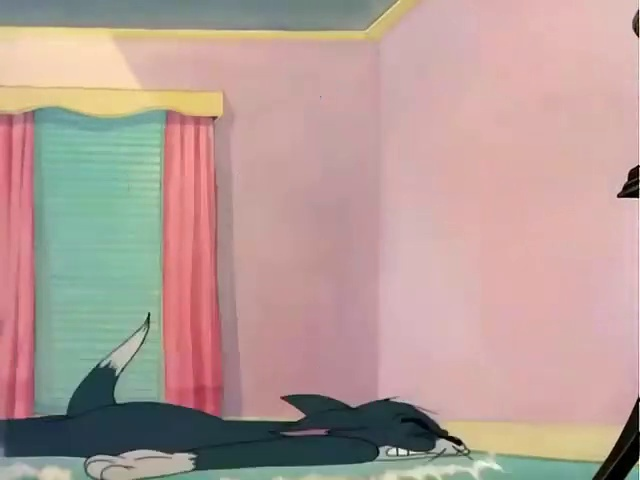tom: (7, 313, 535, 472)
